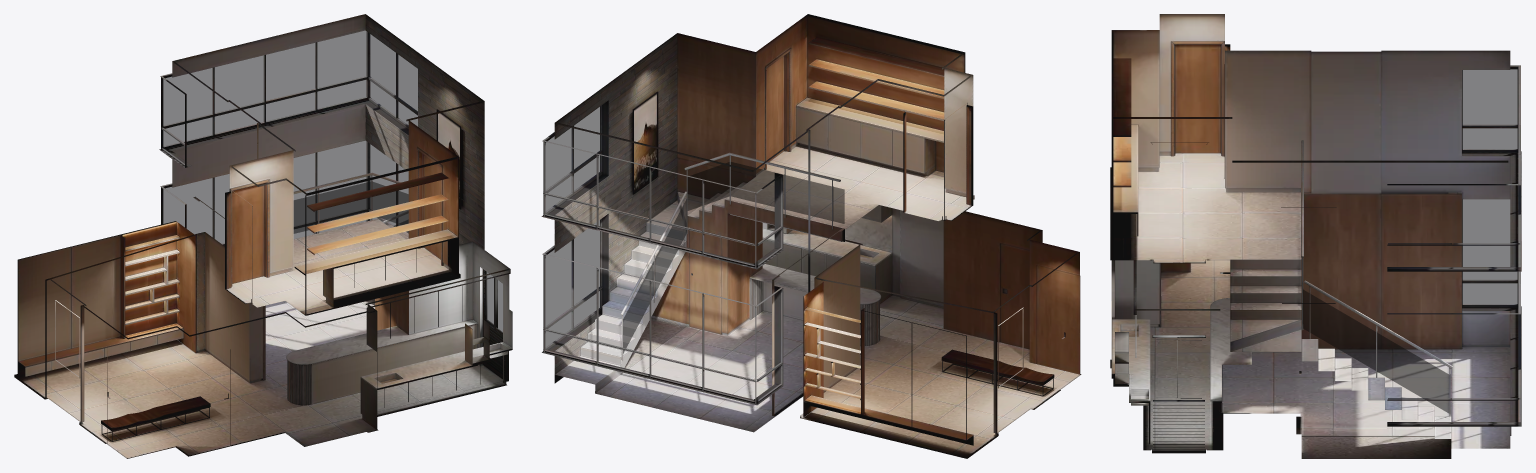
The model's file is bld_duplex.glb.
3 renders of one model, left to right at view 1: azimuth 30°, elevation 25°; view 2: azimuth 150°, elevation 25°; view 3: azimuth 270°, elevation 25°, orthographic. The views are drawn at different scales.
Visible parts, largest first — view 1: Object_4, Object_6; view 2: Object_4, Object_6; view 3: Object_4, Object_6.
Boxes of the visible parts, left/top/right/bottom form: Object_4: left=14, top=14, right=512, bottom=458; Object_6: left=163, top=30, right=502, bottom=332; Object_4: left=541, top=14, right=1081, bottom=458; Object_6: left=543, top=107, right=844, bottom=353; Object_4: left=1110, top=14, right=1521, bottom=458; Object_6: left=1303, top=69, right=1517, bottom=413.
Size of the model in its own units: 8.77 by 5.53 by 6.92.
2 materials, 1 textured.
